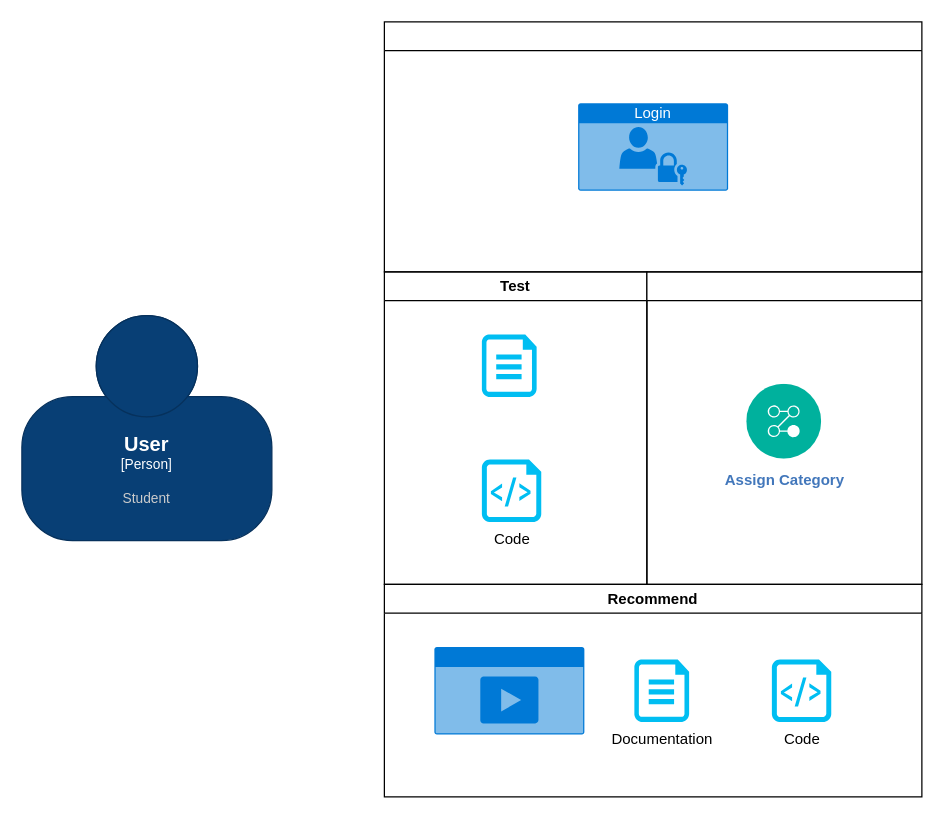
The diagram is 944 pixels wide and 819 high, and some of its shapes have lost their labels. The shapes that lost their labels are listed below. From the top down, each one's box as (x1, y1, x2, y2) in pixels, then its label:
(383, 21, 922, 272): Authentication / Authorization
(481, 334, 536, 396): Concepts
(646, 271, 922, 584): Evaluate
(434, 646, 584, 734): Video
